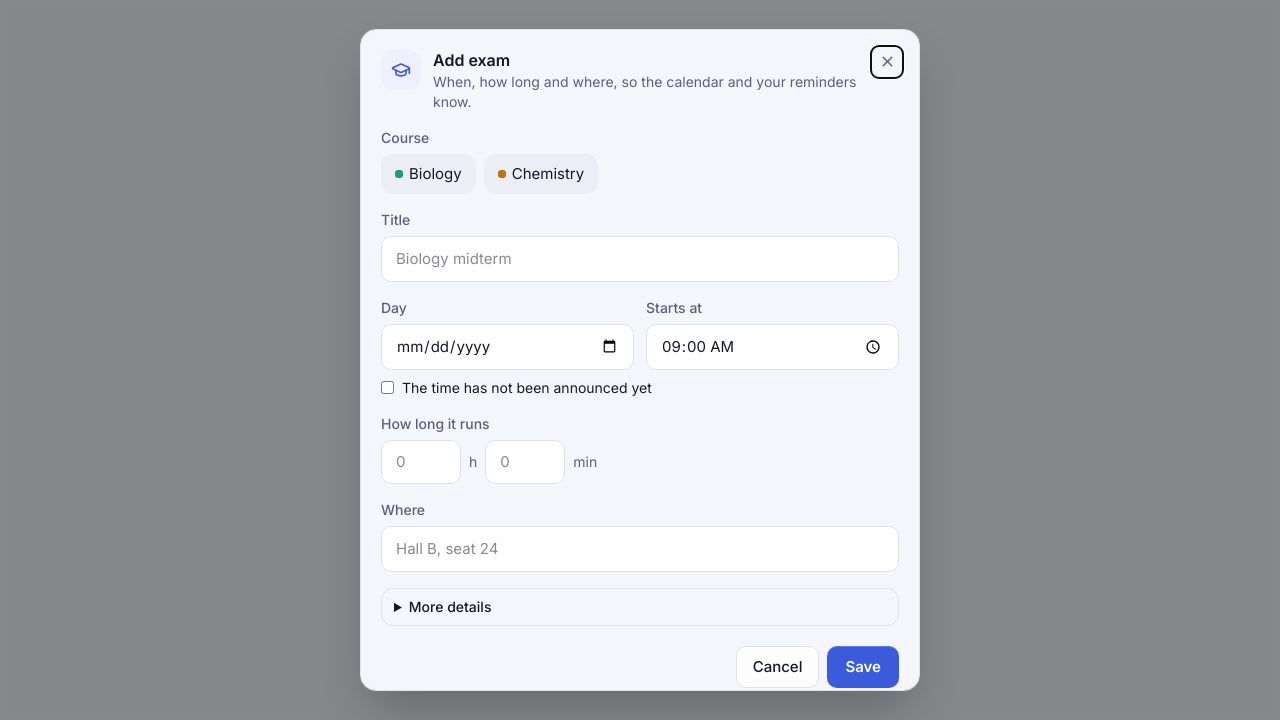
it: ExamDialog › brings the suggestion back when the title is cleared
The image size is (1280, 720).
Click the radio button labelled "Biology" at [428, 174], box left=381, top=154, right=476, bottom=194
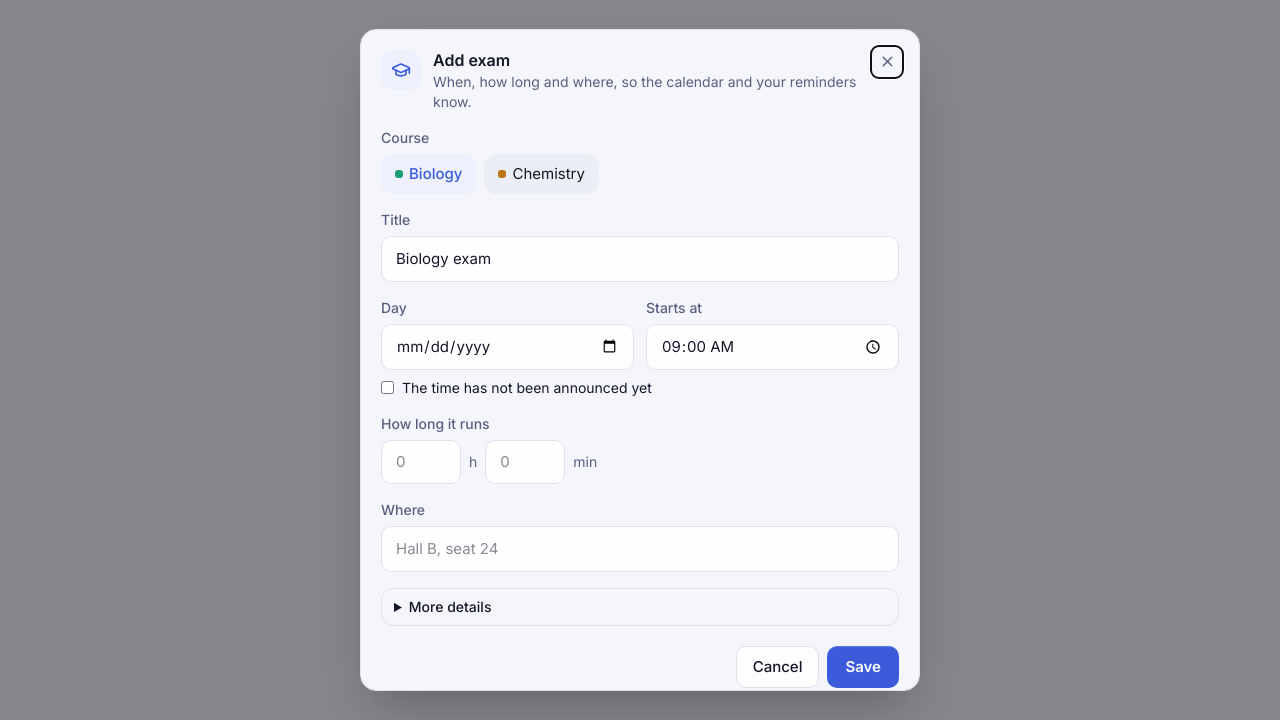
Replace the text in the field labelled "Title" with "Mine" at [640, 259], box left=381, top=236, right=899, bottom=282
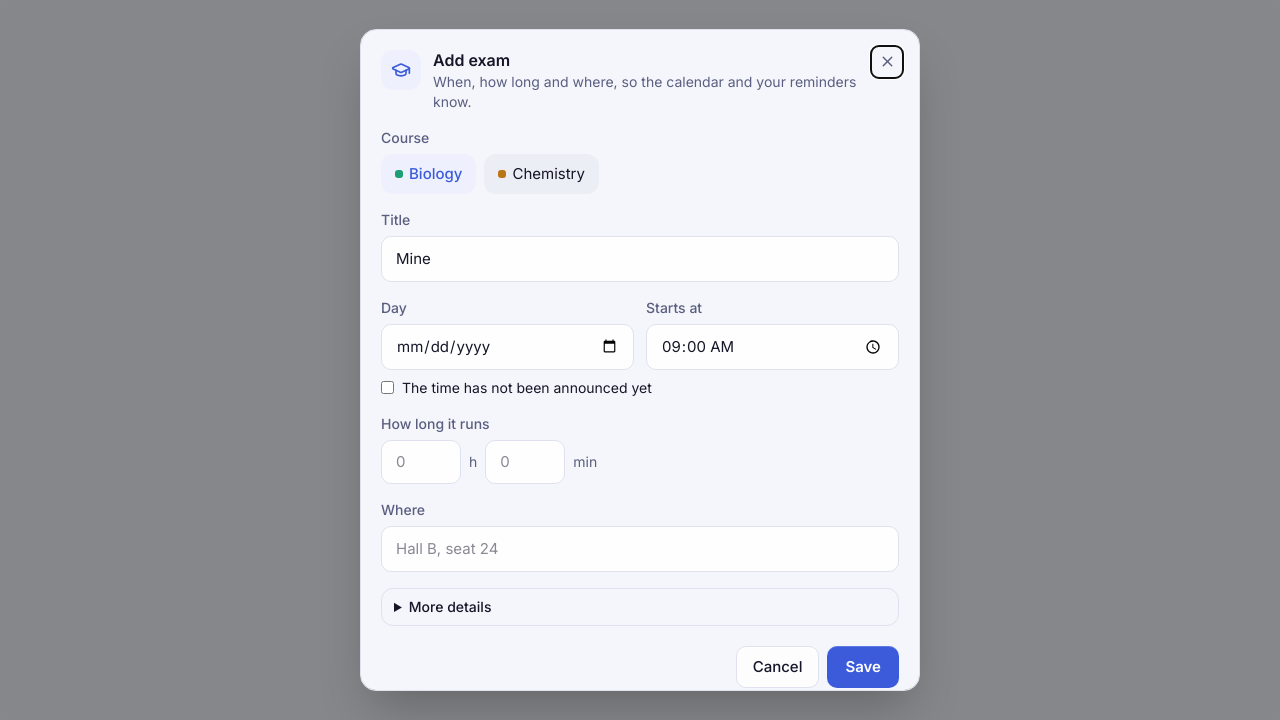
Clear the field labelled "Title" at [640, 259], box left=381, top=236, right=899, bottom=282
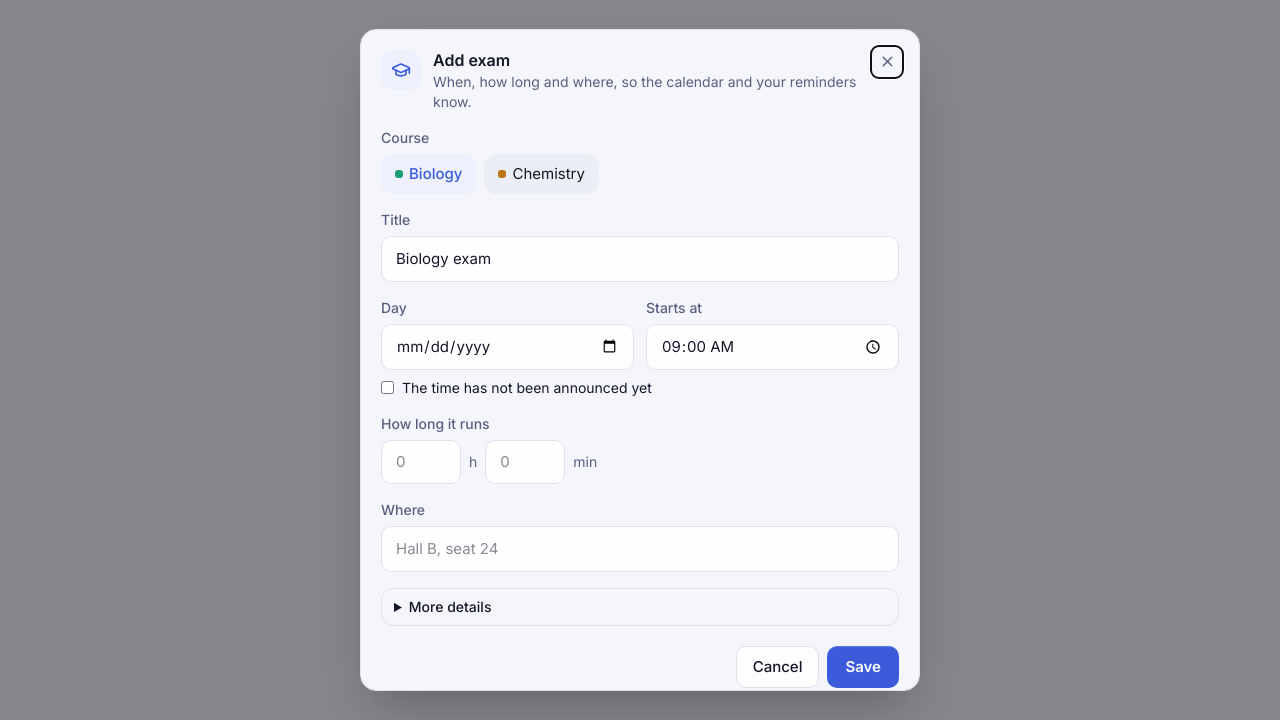
Result: the field labelled "Title" holds "Biology exam" at left=381, top=236, right=899, bottom=282
